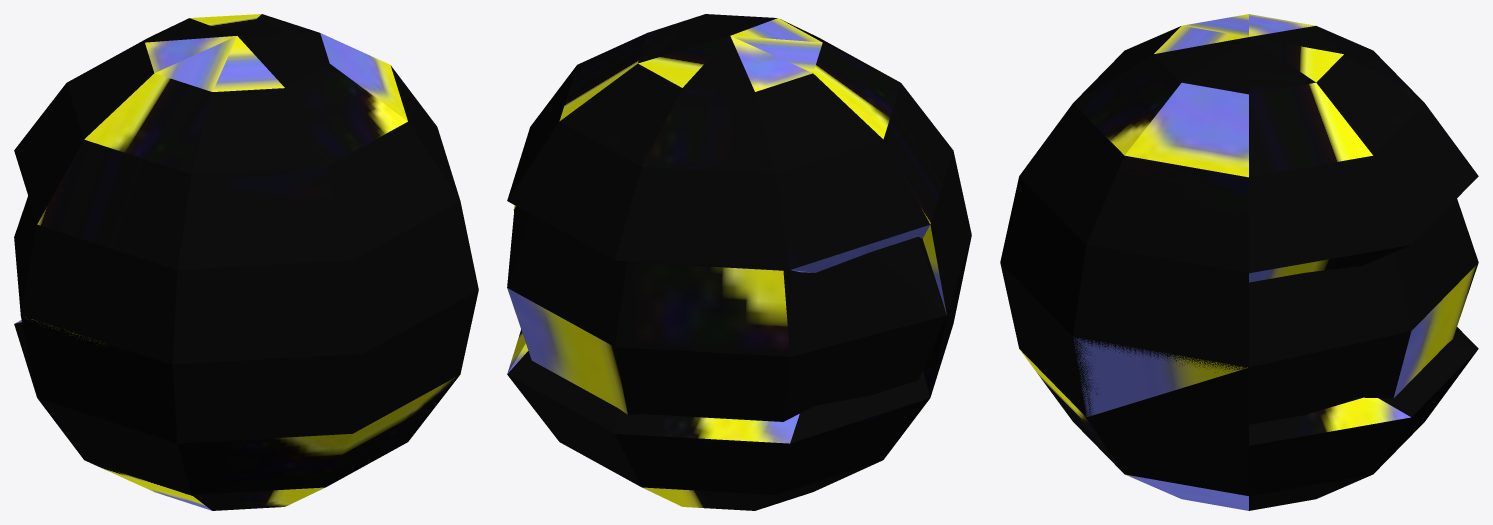
The model's file is pacman.obj.
3 views of the same model, side by side, from view 1: azimuth 30°, elevation 25°; view 2: azimuth 150°, elevation 25°; view 3: azimuth 270°, elevation 25° (orthographic).
Visible parts, largest first — view 1: Sphere.000_Sphere.002, Sphere.001; view 2: Sphere.000_Sphere.002, Sphere.001; view 3: Sphere.000_Sphere.002, Sphere.001.
Part boxes in pixels (x1,y1,x2,y2): Sphere.000_Sphere.002: [14, 14, 478, 510]; Sphere.001: [14, 196, 177, 442]; Sphere.000_Sphere.002: [507, 14, 971, 510]; Sphere.001: [507, 206, 946, 421]; Sphere.000_Sphere.002: [1000, 14, 1478, 510]; Sphere.001: [1073, 199, 1478, 424].
Size of the model in its own units: 2 by 2 by 1.92.
